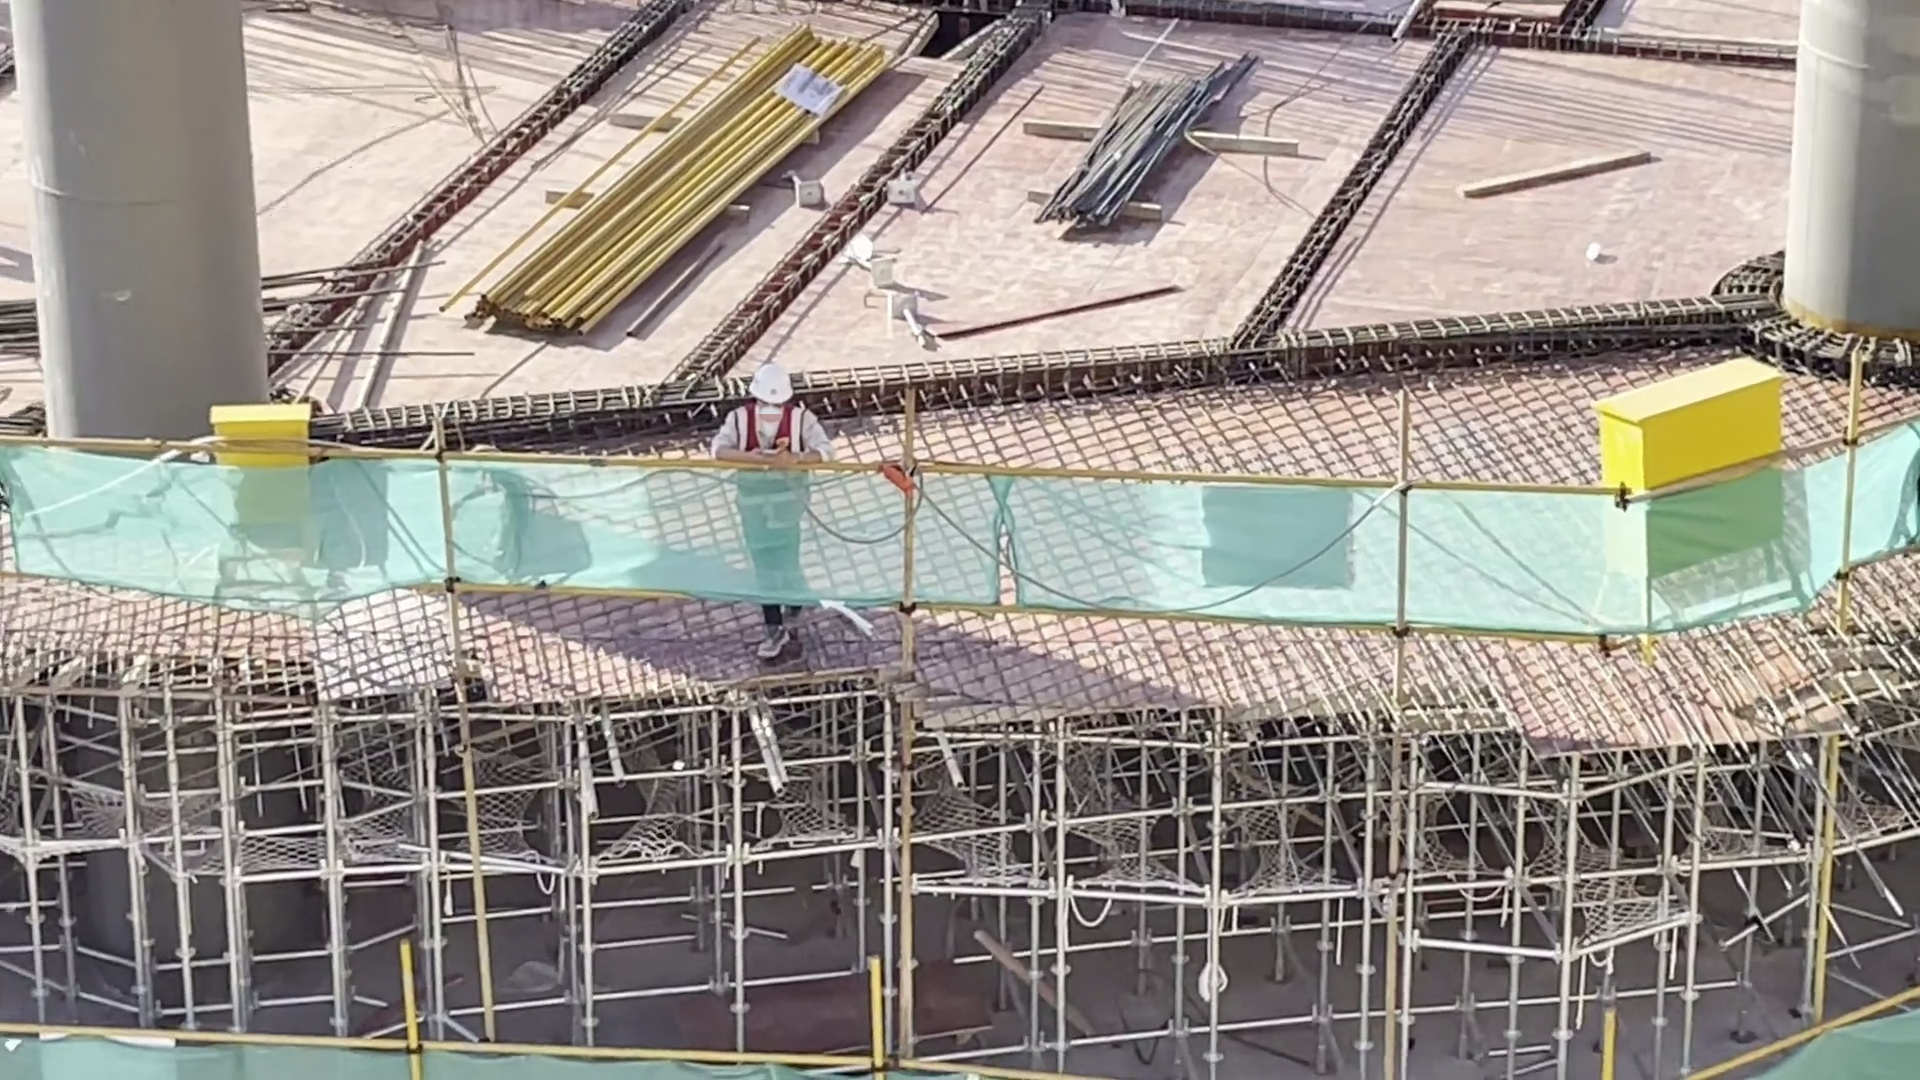ebox: (1589, 331, 1799, 580), (200, 378, 330, 549)
helmet: (737, 370, 796, 409)
person: (722, 361, 826, 661)
vest: (734, 404, 808, 537)
